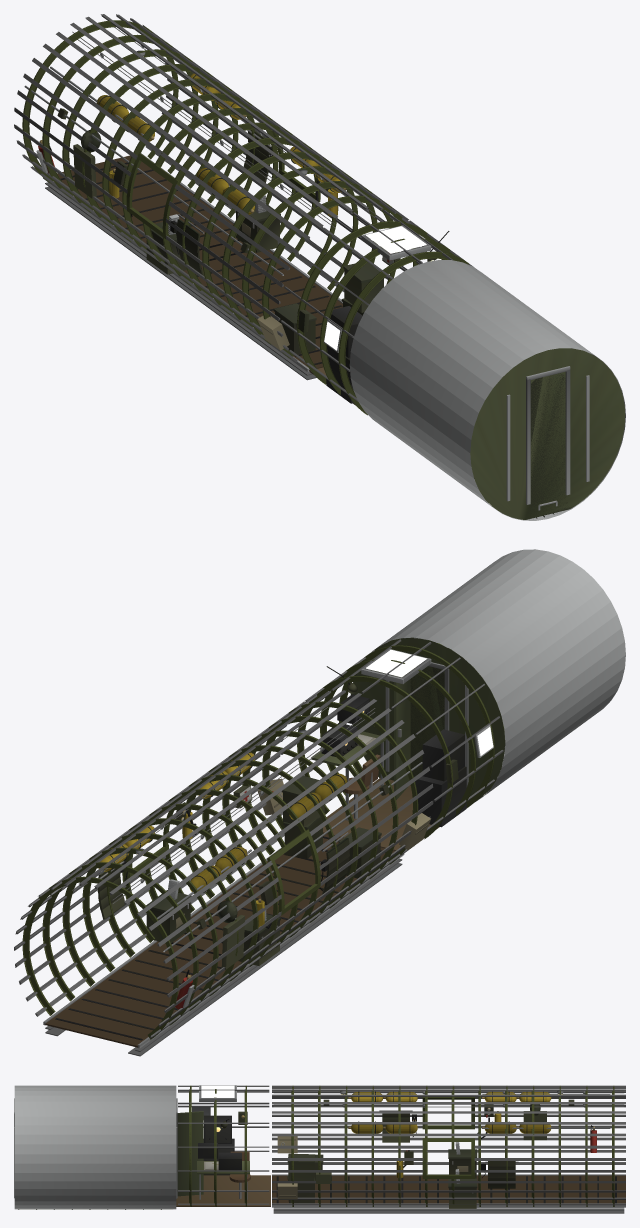
The model's file is b17_interior.glb.
3 views of the same model, one above another, from view 1: azimuth 30°, elevation 25°; view 2: azimuth 150°, elevation 25°; view 3: azimuth 270°, elevation 25° (orthographic). The views are drawn at different scales.
Parts seen in each view (by area): view 1: kitWaist, kitBay, kitRadio; view 2: kitWaist, kitBay, kitRadio; view 3: kitWaist, kitBay, kitRadio.
Part boxes in pixels (bbox=[...]): kitWaist: bbox=[14, 14, 426, 380]; kitBay: bbox=[349, 260, 625, 520]; kitRadio: bbox=[280, 210, 473, 415]; kitWaist: bbox=[14, 690, 433, 1056]; kitBay: bbox=[350, 549, 625, 802]; kitRadio: bbox=[281, 638, 504, 850]; kitWaist: bbox=[272, 1085, 625, 1213]; kitBay: bbox=[14, 1085, 176, 1209]; kitRadio: bbox=[176, 1085, 270, 1206].
Bounding box in the file's own units: 2.2 × 2.24 × 10.99.
